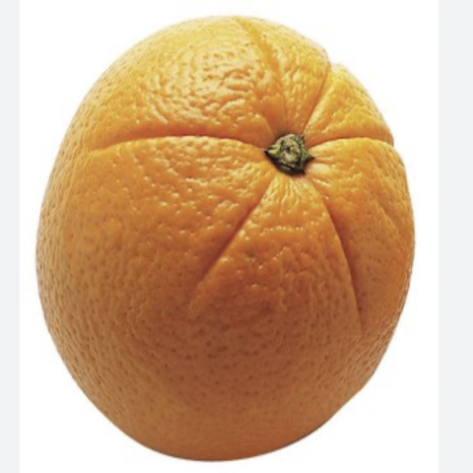orange: (22, 12, 449, 468)
